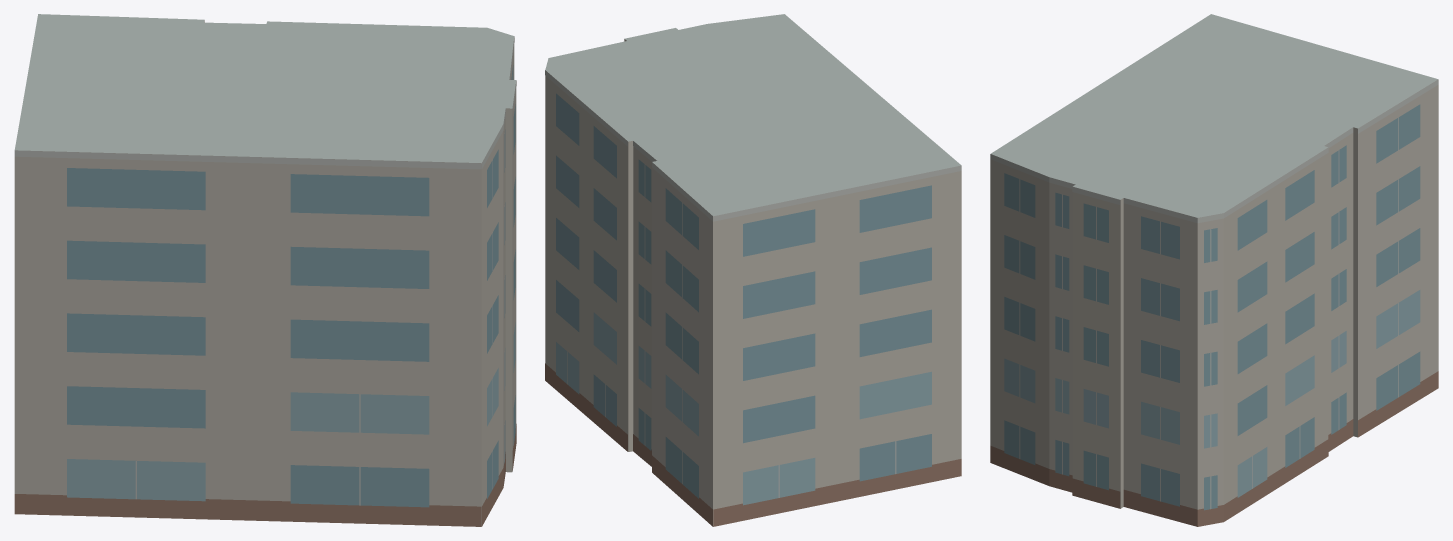
The model's file is survey-upis-32910464.glb.
The picture shows the model from 3 angles, left to right: view 1: azimuth 30°, elevation 25°; view 2: azimuth 150°, elevation 25°; view 3: azimuth 270°, elevation 25°; orthographic projection. The views are drawn at different scales.
Parts seen in each view (by area): view 1: survey-upis-32910464.tmp; view 2: survey-upis-32910464.tmp; view 3: survey-upis-32910464.tmp.
Boxes of the visible parts, box(x1,y1,x2,y2) form: survey-upis-32910464.tmp: box(14, 14, 516, 526); survey-upis-32910464.tmp: box(545, 14, 961, 526); survey-upis-32910464.tmp: box(990, 14, 1438, 526).
Size of the model in its own units: 19.82 by 14 by 18.41.
